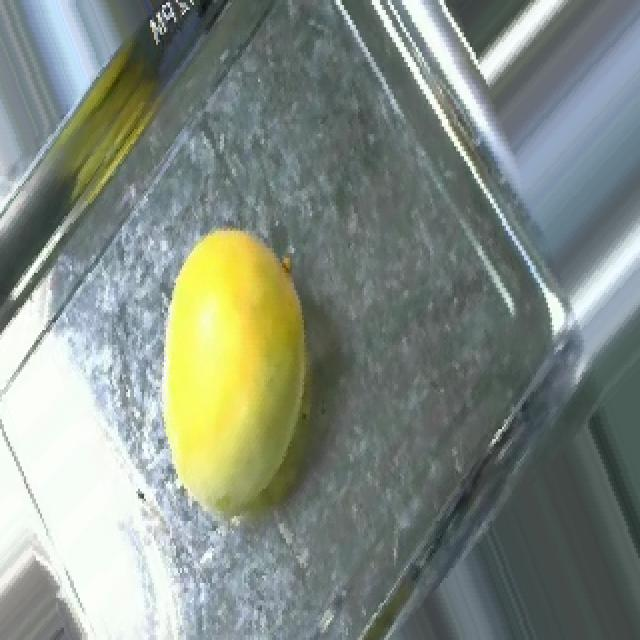fruit: (100, 194, 384, 558)
